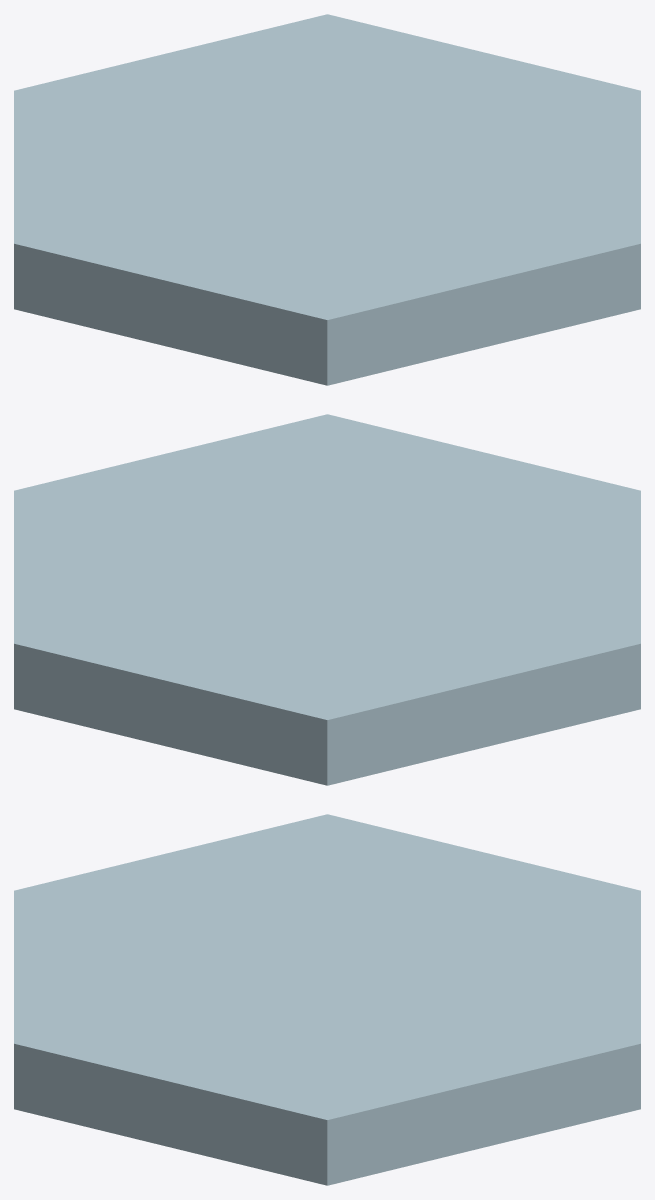
Rendered from HexTile.fbx.
3 views of the same model, one above another, from view 1: azimuth 30°, elevation 25°; view 2: azimuth 150°, elevation 25°; view 3: azimuth 270°, elevation 25° (orthographic).
Visible parts, largest first — view 1: Hex; view 2: Hex; view 3: Hex.
Boxes of the visible parts, box(x1,y1,x2,y2) form: Hex: box(14, 14, 640, 385); Hex: box(14, 414, 640, 785); Hex: box(14, 814, 640, 1185).
Size of the model in its own units: 10 by 1 by 8.66.
